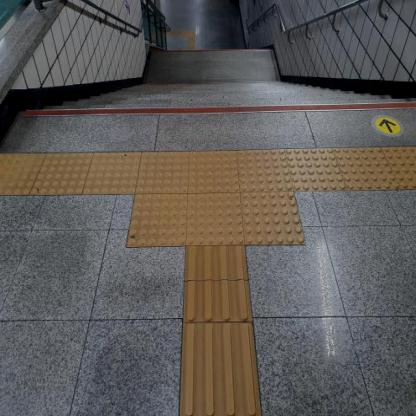podotacti: (2, 152, 415, 196), (181, 246, 254, 412)
